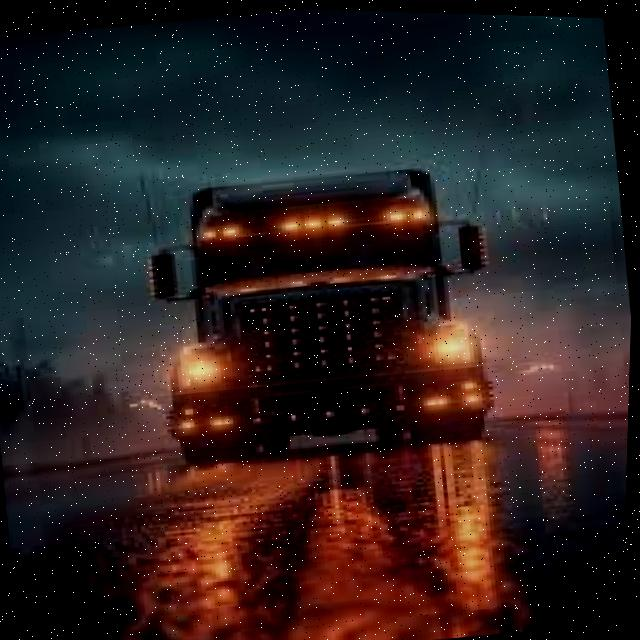truck: (140, 149, 513, 473)
